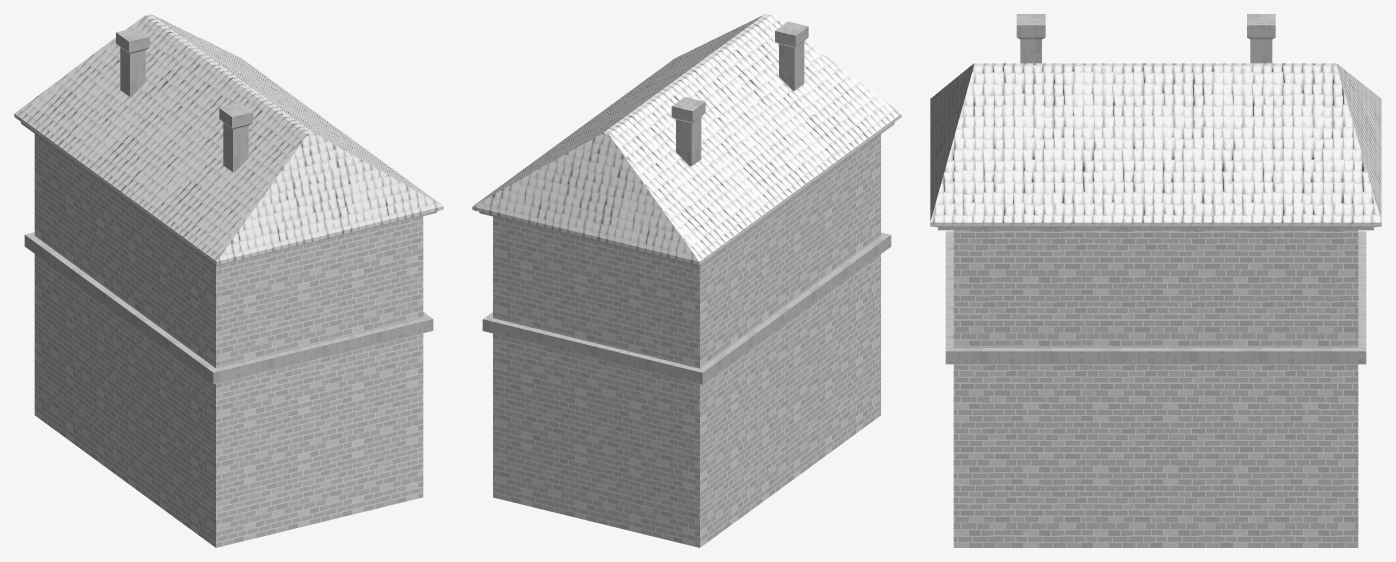
The model's file is Building_C.fbx.
3 views of the same model, side by side, from view 1: azimuth 30°, elevation 25°; view 2: azimuth 150°, elevation 25°; view 3: azimuth 270°, elevation 25° (orthographic). The views are drawn at different scales.
Parts seen in each view (by area): view 1: Building_C; view 2: Building_C; view 3: Building_C.
Part boxes in pixels (x1,y1,x2,y2): Building_C: (14, 14, 443, 547); Building_C: (472, 14, 901, 547); Building_C: (930, 14, 1381, 547).
Bounding box in the file's own units: 2096 × 3519 × 3234.
Materials: 3 (3 with a texture image).
